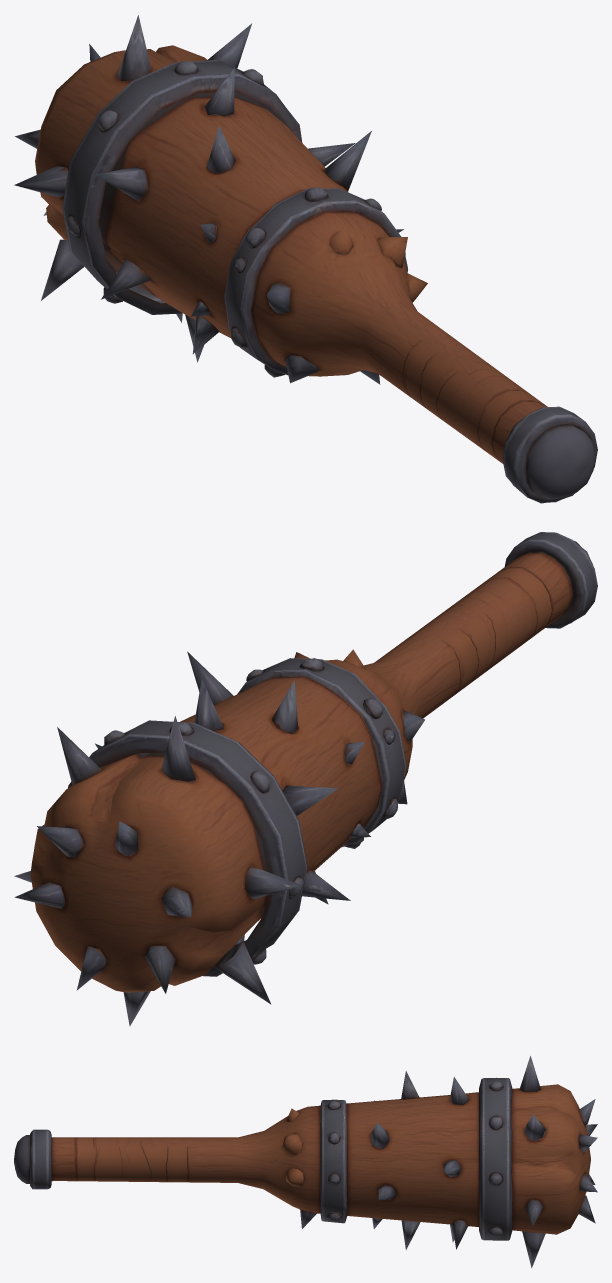
The model's file is warlord_club_tripo.glb.
3 renders of one model, top to bottom at view 1: azimuth 30°, elevation 25°; view 2: azimuth 150°, elevation 25°; view 3: azimuth 270°, elevation 25°, orthographic. The views are drawn at different scales.
Visible parts, largest first — view 1: tripo_node_d35c991a-b024-4606-b471-cb28d8f99edd; view 2: tripo_node_d35c991a-b024-4606-b471-cb28d8f99edd; view 3: tripo_node_d35c991a-b024-4606-b471-cb28d8f99edd.
Part boxes in pixels (x1,y1,x2,y2): tripo_node_d35c991a-b024-4606-b471-cb28d8f99edd: [14, 15, 597, 503]; tripo_node_d35c991a-b024-4606-b471-cb28d8f99edd: [14, 532, 597, 1026]; tripo_node_d35c991a-b024-4606-b471-cb28d8f99edd: [14, 1056, 597, 1267].
Bounding box in the file's own units: 0.3496 × 0.377 × 0.998.
Materials: 1 (1 with a texture image).
